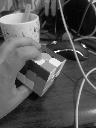rubik: (15, 45, 66, 97)
